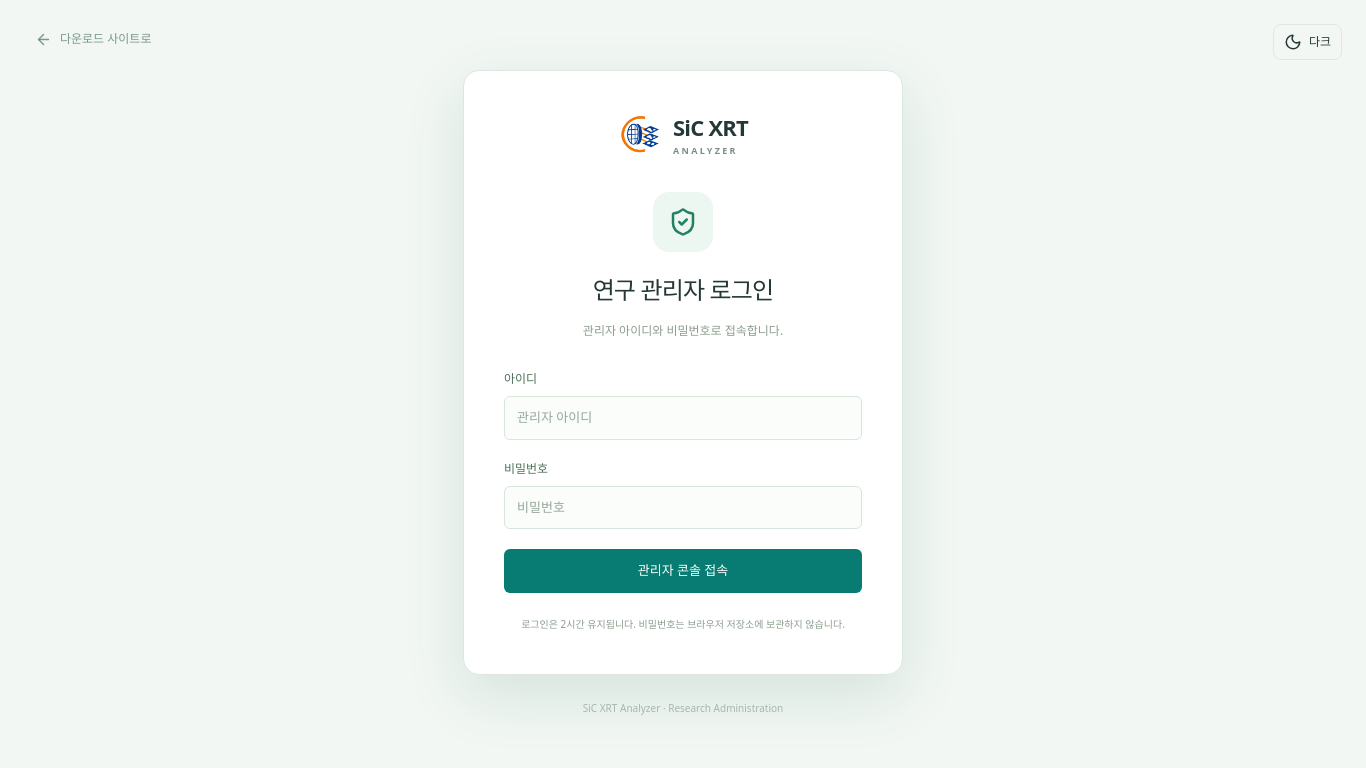
Test: shows a generic password failure and permits retry
The width and height of the screenshot is (1366, 768).
In the field labelled "아이디": point(683, 418) x1=504 y1=396 x2=862 y2=440, type "qa-admin"
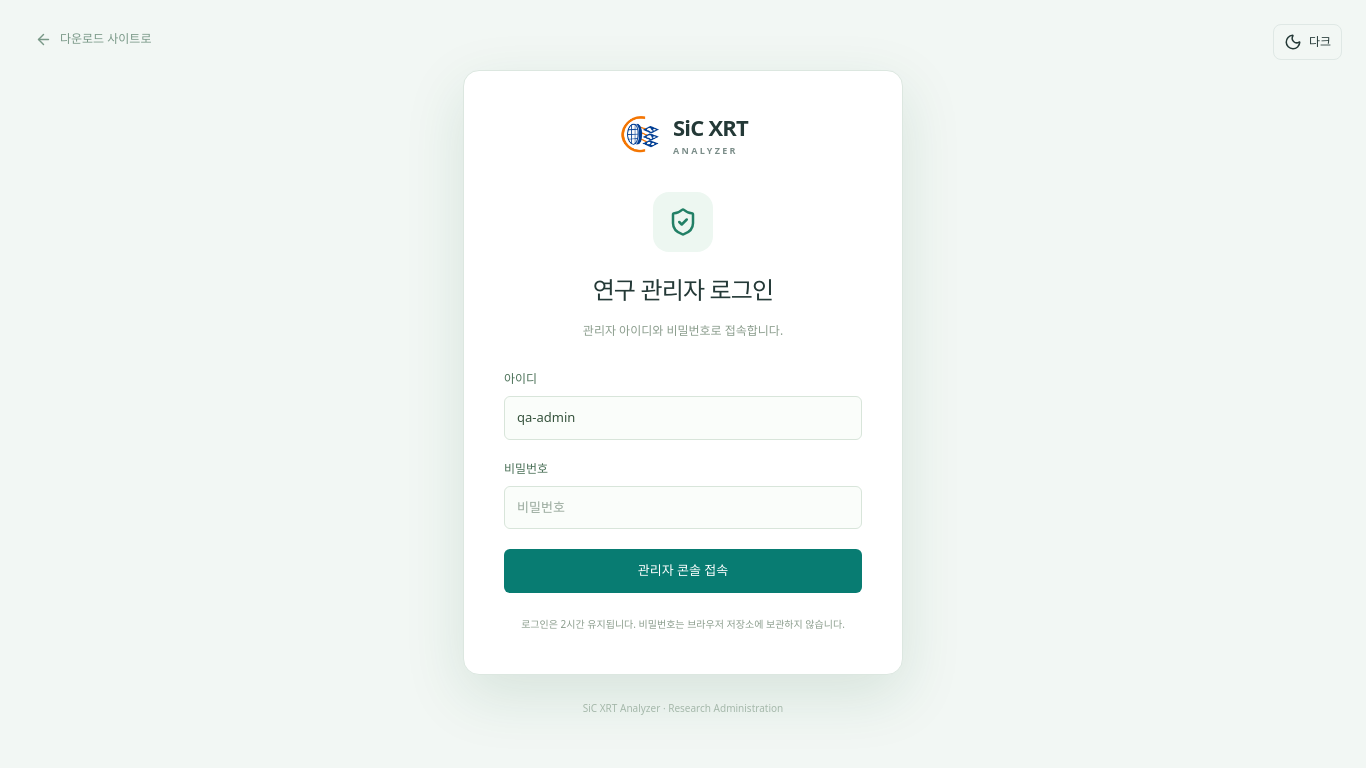
In the password field labelled "비밀번호": point(683, 508) x1=504 y1=486 x2=862 y2=530, type "SYNTHETIC-wrong!"
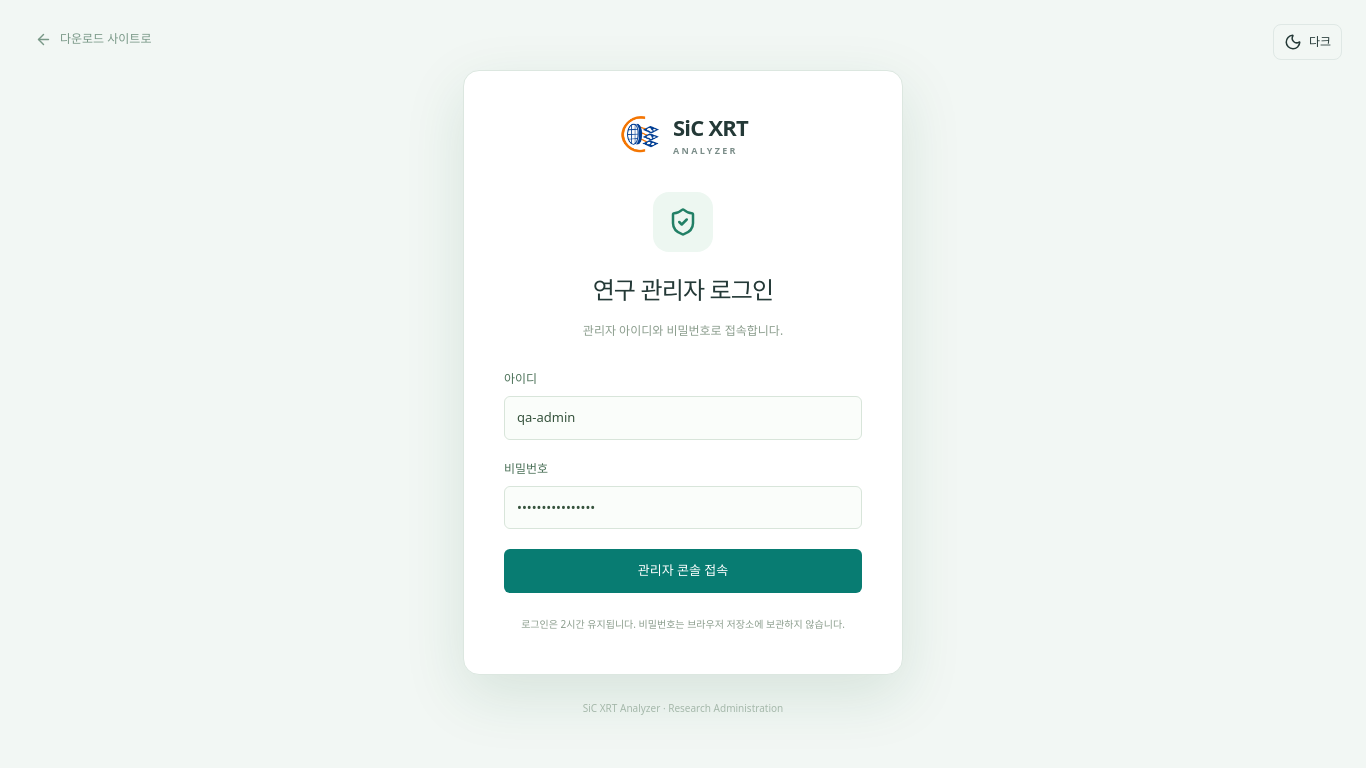
Click the button "관리자 콘솔 접속": point(683, 571) x1=504 y1=550 x2=862 y2=593
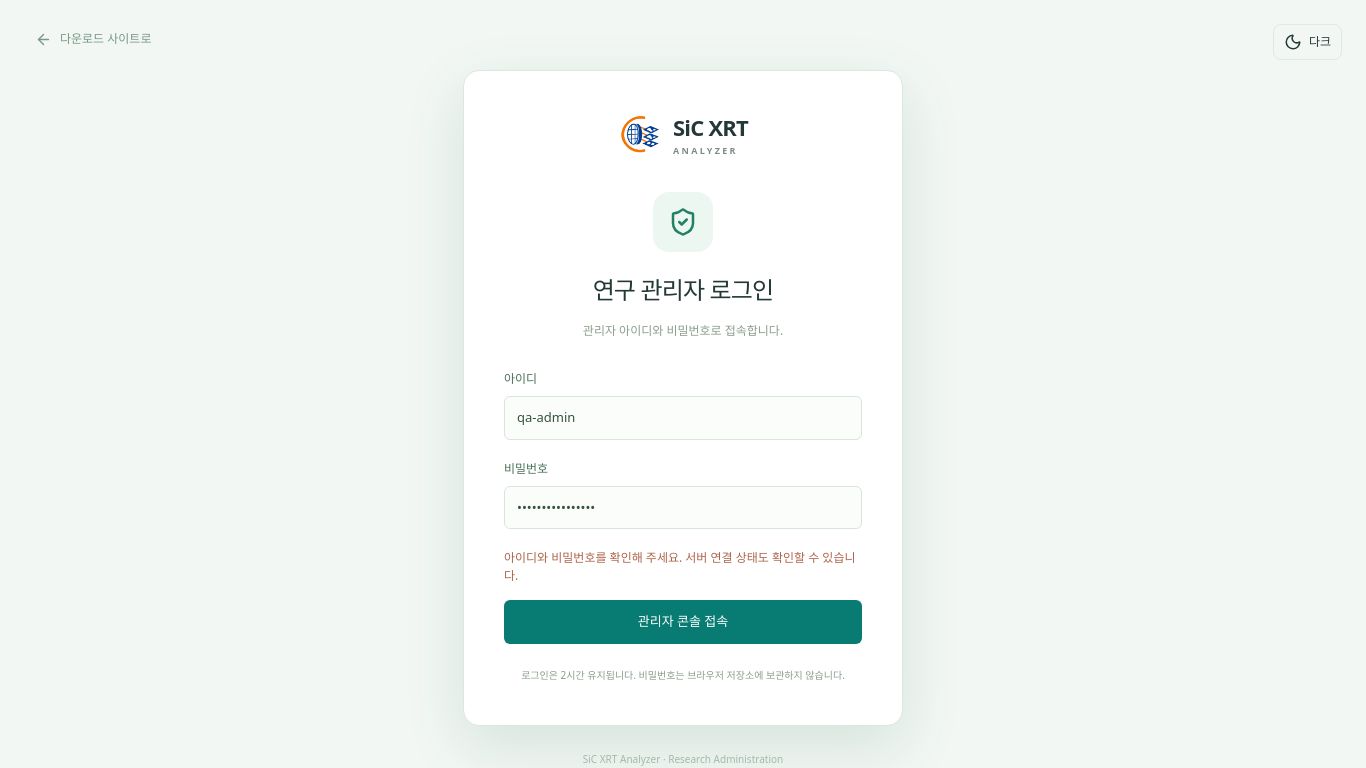
Check: the button "관리자 콘솔 접속" is enabled, box x1=504 y1=600 x2=862 y2=644
Check: the message shows "아이디와 비밀번호를 확인", box x1=504 y1=550 x2=856 y2=584
